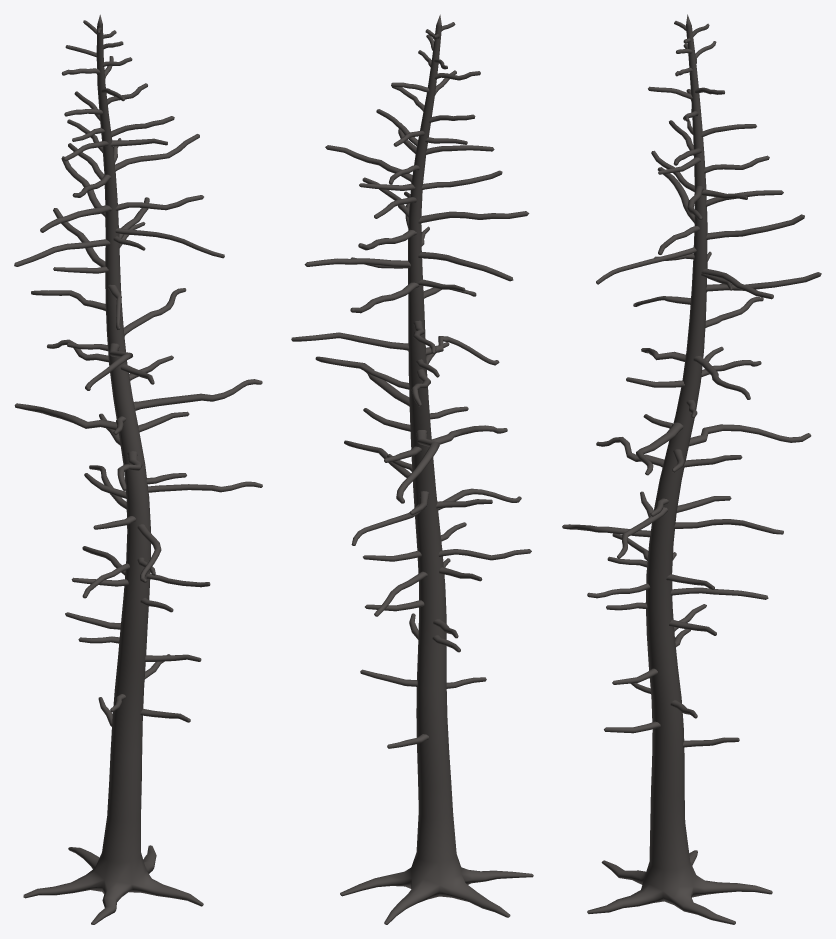
The model's file is P_fir_dead_02_LD.fbx.
The picture shows the model from 3 angles, left to right: view 1: azimuth 30°, elevation 25°; view 2: azimuth 150°, elevation 25°; view 3: azimuth 270°, elevation 25°; orthographic projection.
Parts seen in each view (by area): view 1: P_fir_dead_02; view 2: P_fir_dead_02; view 3: P_fir_dead_02.
Part boxes in pixels (left/top/right/bottom): P_fir_dead_02: left=14, top=14, right=262, bottom=924; P_fir_dead_02: left=291, top=14, right=533, bottom=924; P_fir_dead_02: left=562, top=14, right=821, bottom=924.
Bounding box in the file's own units: 143 × 538 × 145.
